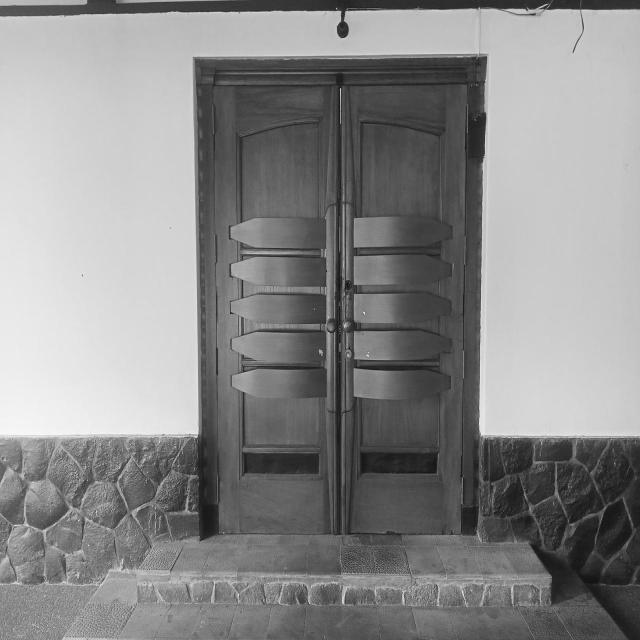door: (196, 56, 482, 538)
